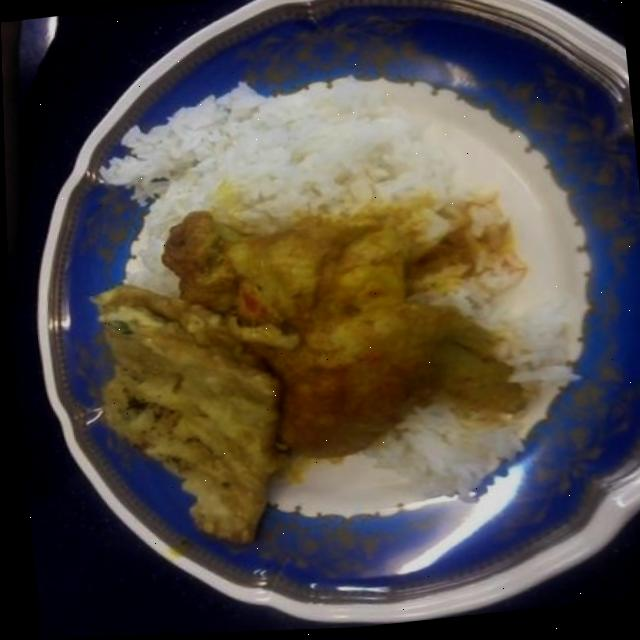米饭主食: (20, 0, 640, 624)
